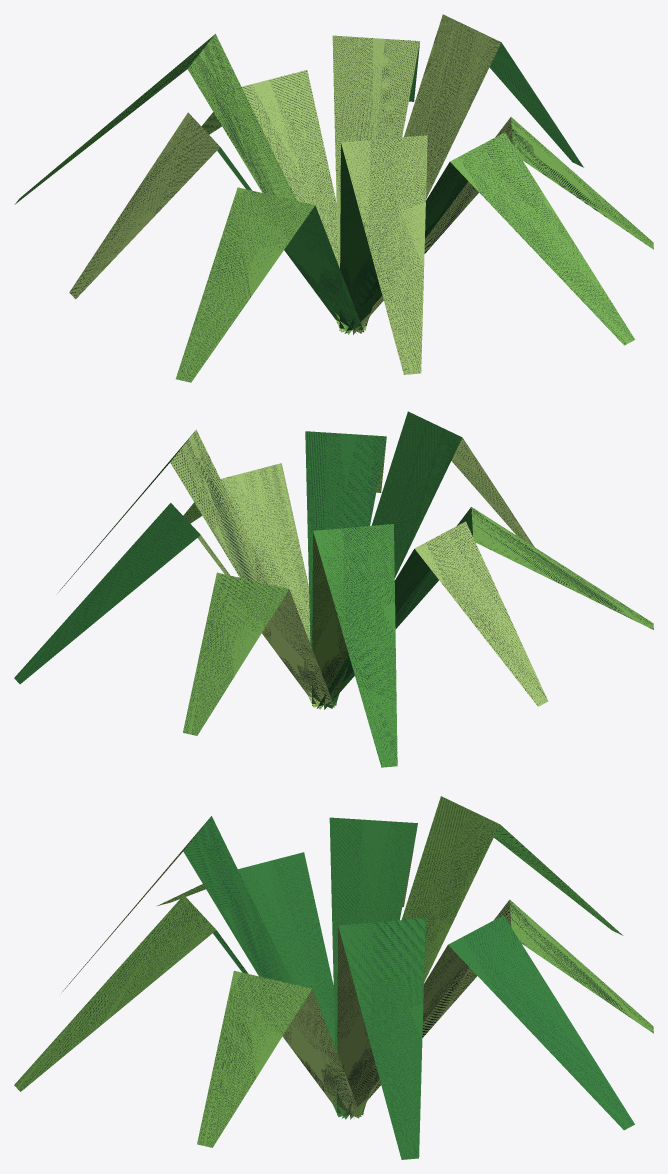
File: fern.glb
The picture shows the model from 3 angles, top to bottom: view 1: azimuth 30°, elevation 25°; view 2: azimuth 150°, elevation 25°; view 3: azimuth 270°, elevation 25°; orthographic projection. The views are drawn at different scales.
Parts seen in each view (by area): view 1: fern; view 2: fern; view 3: fern.
Part boxes in pixels (x1=…): fern: x1=14, y1=14, x2=653, y2=382; fern: x1=14, y1=411, x2=653, y2=767; fern: x1=14, y1=796, x2=653, y2=1159.
Size of the model in its own units: 0.6816 by 0.32 by 0.7161.
